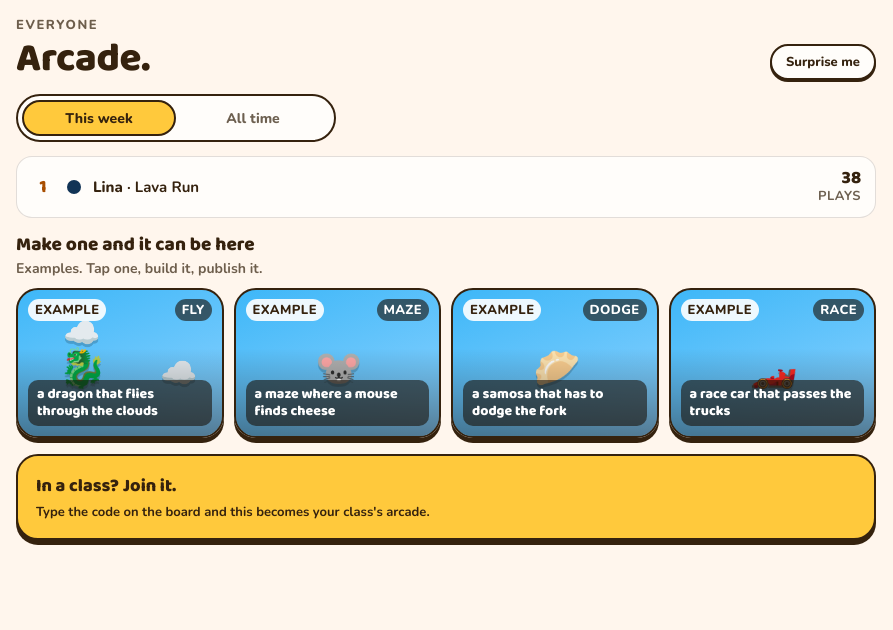
Test: a guest gets everyone's arcade from the explore feed and the door to join
The image size is (893, 630).
Later steps or results of the test are not shown.
Expected: the text "Everyone" is shown, [16, 16, 98, 34]
Expected: the number of list items with class "ar__row" is 1, [16, 156, 876, 218]
Click the button "All time" at (253, 118), box [176, 100, 330, 136]
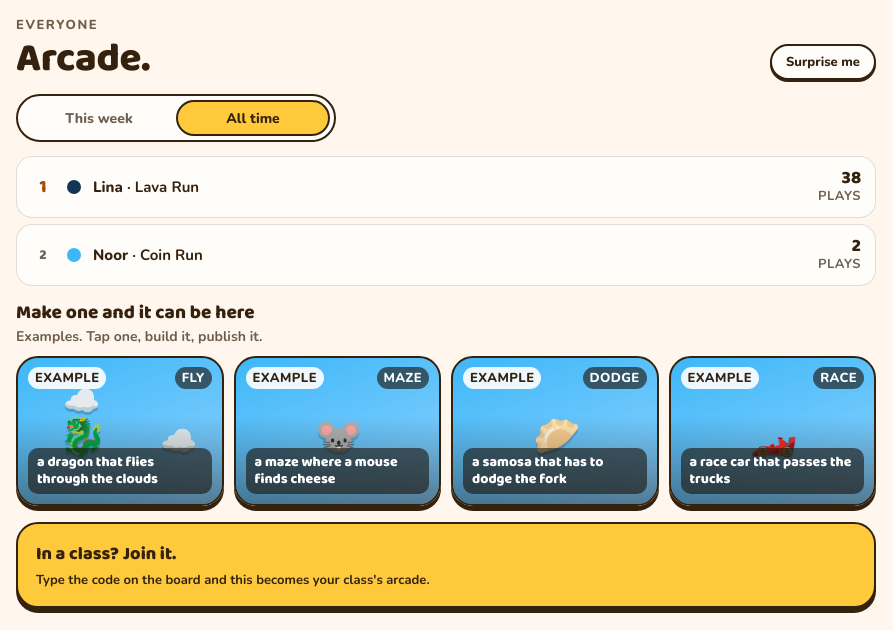
Expected: the number of list items with class "ar__row" is 2, [16, 156, 876, 218]; [16, 224, 876, 286]
